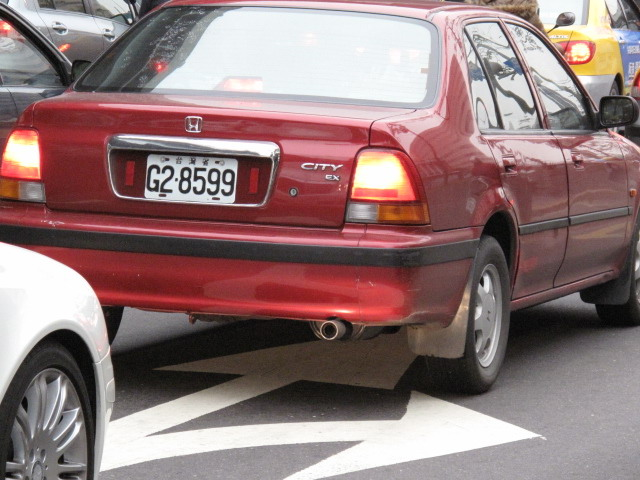plate: (143, 151, 240, 206)
